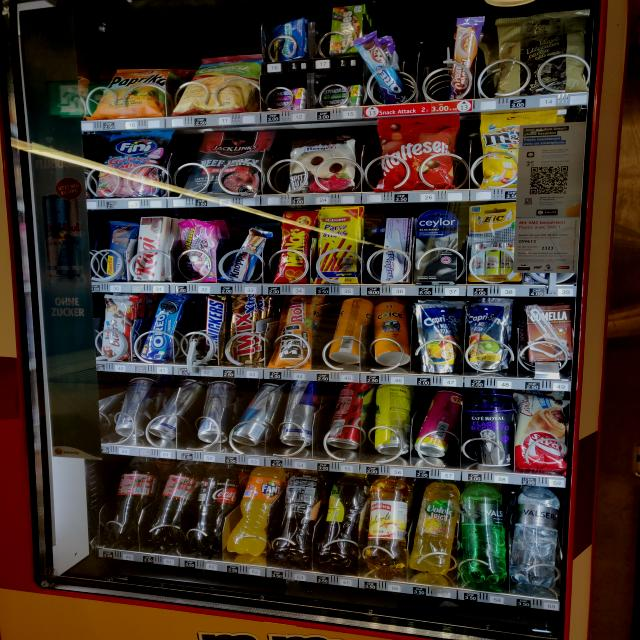7days_croissantschoko_packung_80_1_0000000000003: (513, 394, 570, 472)
airwaves_menthoneucalyptus_riegel_14_1_50173167: (268, 18, 308, 64)
bifi_roll__50__4251097402635: (268, 296, 320, 368)
bueno___43__4008400320328: (98, 294, 144, 362)
c-swiss_dosenabisicetea__33__9120025930135: (327, 296, 375, 366), (374, 304, 414, 368)
caferoyal_classicmacchiato__33__7617014164487: (464, 397, 520, 467)
caprisun_multivitamin__20__4000177605004: (462, 298, 514, 373), (416, 297, 464, 375)
coke__dose_33__54491472: (325, 384, 369, 449)
coke__flasche_50__54491472: (145, 460, 201, 544), (104, 456, 151, 540)
coke_zero_flasche_50__5449000131836: (185, 464, 240, 549)
comella_schokodrink__33__7613100037253: (520, 304, 576, 361)
fanta___50__40822938: (228, 468, 285, 556)
fini_galaxymix_packung_100_1_8410525150364: (94, 128, 170, 196)
fini_jellykisses_packung_80_1_8410525116704: (173, 220, 219, 286)
fuse_lemon__50__5449000235947: (313, 472, 365, 568)
fuse_lemon_dose_33__5449000235947: (368, 385, 413, 459)
fuse_peach__50__5449000236623: (273, 468, 326, 561)
jacklinks_beefjerkyorginal__25__4047751730219: (184, 128, 276, 199)
jlbrichard_gauffrechoko__90__5410495002079: (492, 9, 590, 95)
kagi___50__7610046000259: (132, 213, 172, 281)
knoppers_riegel____4035800488808: (226, 228, 267, 282)
lorenz_nicnacs__40__4018077798818: (275, 207, 317, 284)
malburner_partysticks__40__7610200279682: (316, 206, 366, 285)
maltesers___100__5000159023061: (374, 109, 465, 192)
mnms_gelb__45__40111445: (480, 110, 558, 191)
oreo___66__84100733: (142, 296, 182, 362)
powerbar_proteinplusschoko__55__4029679520028: (94, 219, 137, 287)
ramseier_schorle__50__7610057012456: (362, 478, 412, 571)
redbull___33__90162909: (146, 381, 198, 442), (111, 372, 155, 439), (193, 378, 237, 444), (279, 382, 324, 446)
redbull_light__33__90162800: (233, 384, 279, 447)
skittles_sour_riegel_51_1_0000000000004: (328, 1, 367, 57)
snickers___50__5000159461122: (200, 291, 230, 360)
stimorol_spearmint_riegel_14_1_0000000000005: (318, 83, 366, 108)
stimorol_wildcherry_riegel_14_1_57060330: (264, 86, 308, 111)
tiki_himbeer_brause__50__00000000009342: (416, 389, 462, 455)
twix___50__5000159459228: (222, 295, 264, 365)
valser_classic__50__76404160: (458, 484, 511, 585)
valser_still__50__7610335002575: (507, 488, 563, 586)
volvic_pinapple__50__305764335648: (409, 483, 461, 575)
zweifel_graneochilli__100__7610095184009: (177, 49, 266, 115)
zweifel_paprika__90__7610095013002: (91, 66, 176, 123)
